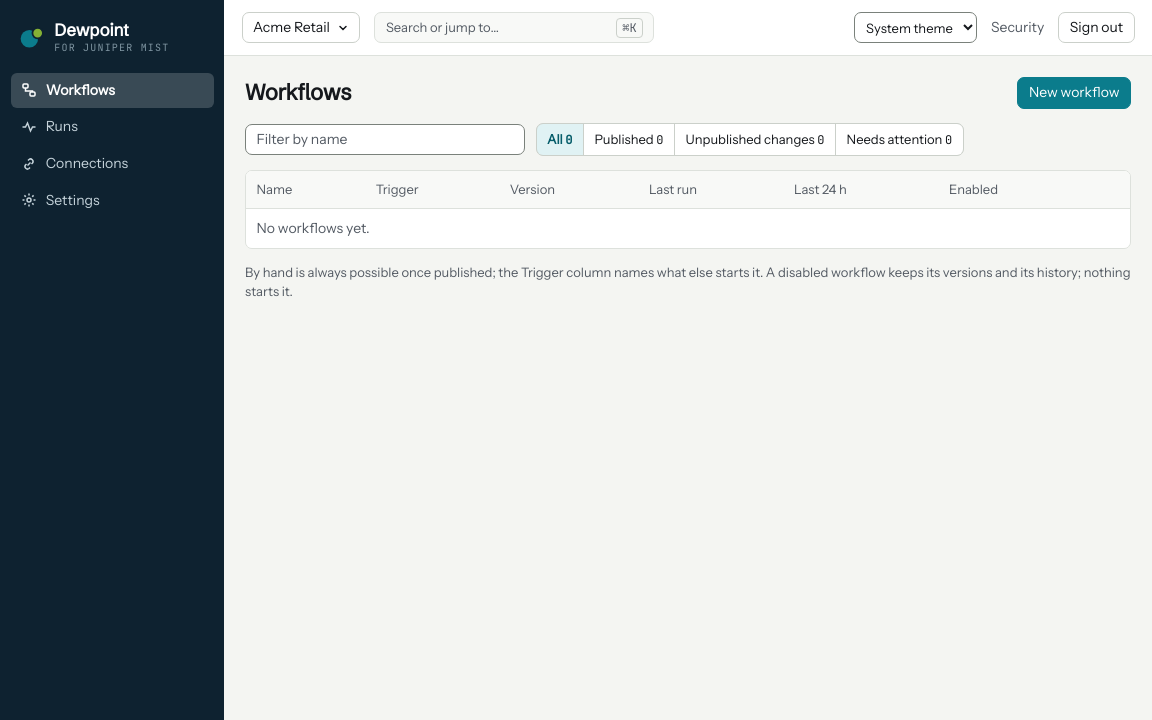
Test case: opens the Runs page from the rail (the runs design §5.1)
Click the link "Runs" at [49, 126], box [21,117,78,135]
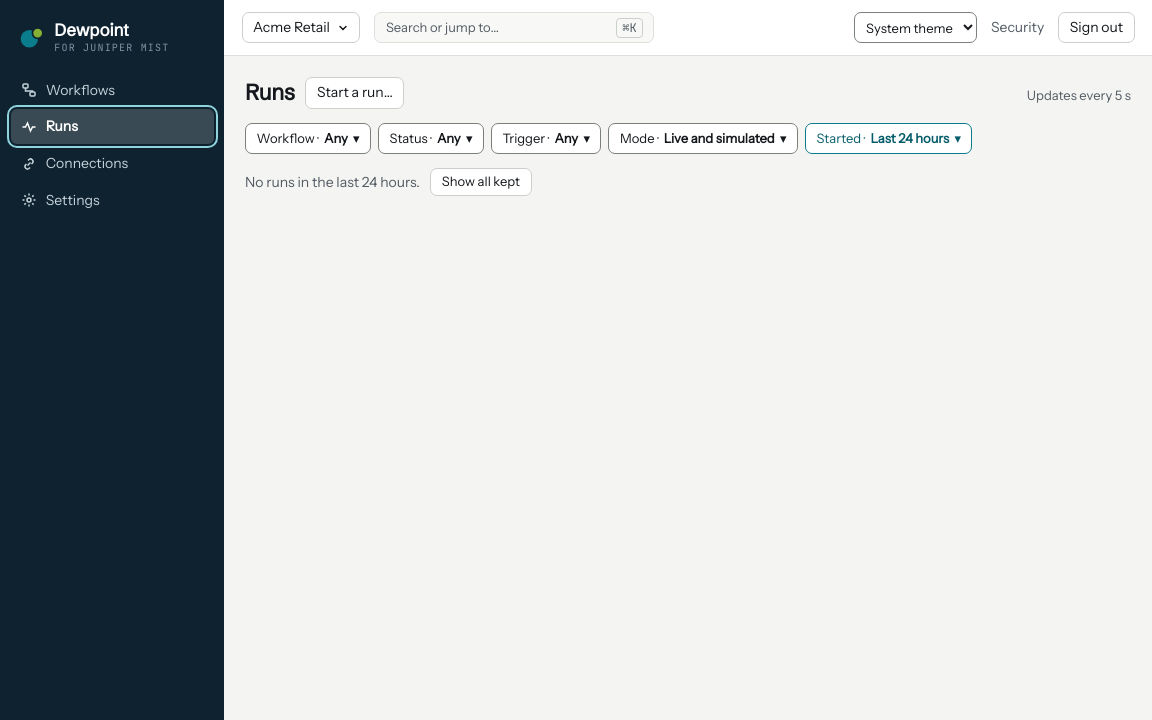
Expected: the heading "Runs" is shown, [245,80,295,106]
